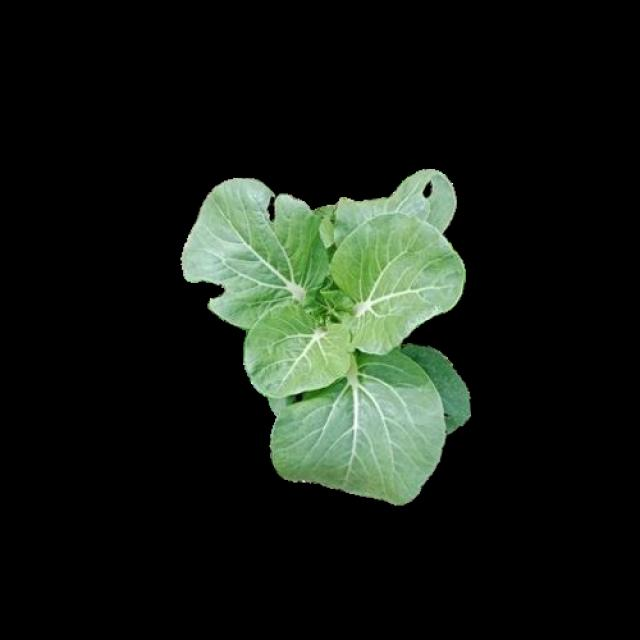not-mature: (181, 167, 474, 500)
unhealthy: (185, 178, 322, 319), (329, 169, 466, 310)
